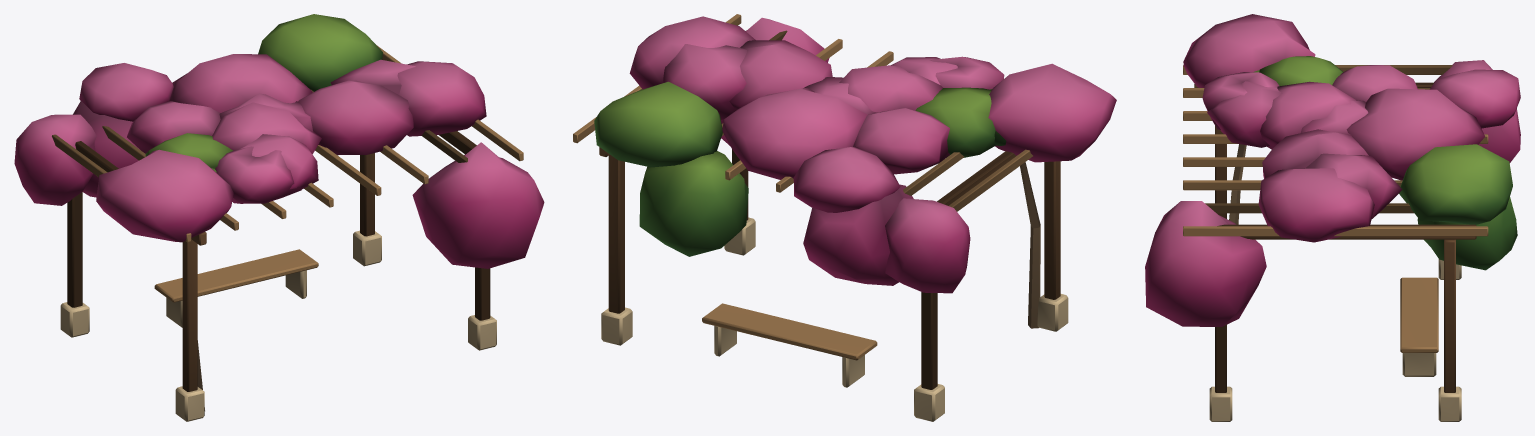
Rendered from bougainvillea_pergola.glb.
3 renders of one model, left to right at view 1: azimuth 30°, elevation 25°; view 2: azimuth 150°, elevation 25°; view 3: azimuth 270°, elevation 25°, orthographic. The views are drawn at different scales.
Parts seen in each view (by area): view 1: bougainvillea_pergola_mesh; view 2: bougainvillea_pergola_mesh; view 3: bougainvillea_pergola_mesh.
Boxes of the visible parts, x1=… form: bougainvillea_pergola_mesh: x1=14, y1=14, x2=544, y2=421; bougainvillea_pergola_mesh: x1=573, y1=14, x2=1116, y2=421; bougainvillea_pergola_mesh: x1=1145, y1=14, x2=1520, y2=421.
Size of the model in its own units: 6.05 by 3.57 by 4.92.
